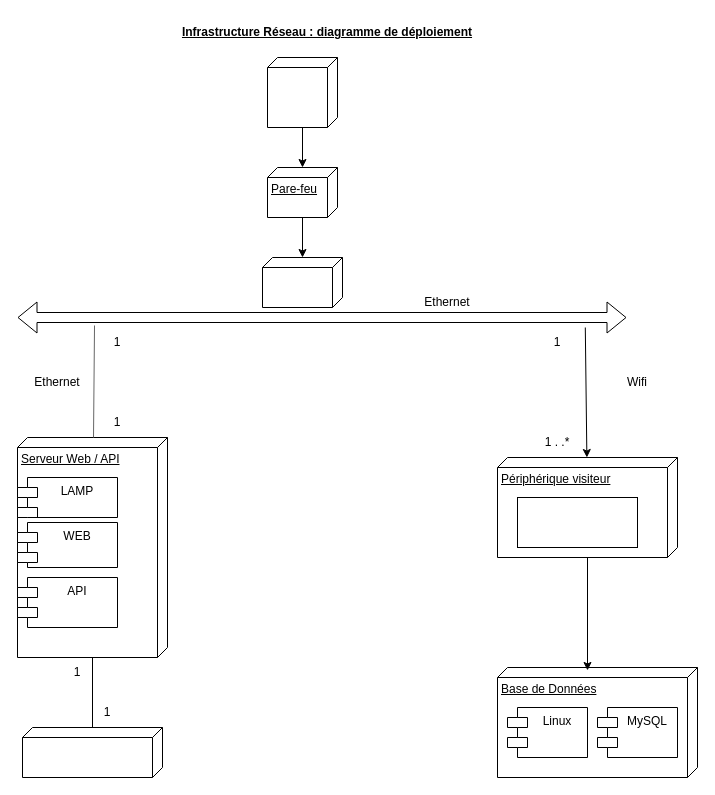
Some shapes in this 715 by 795 pixel diagram are drawn without their labels. Here are the shapes that lost their labels. From the top down, the centre of each, then its label:
At point (302, 92): "Internet".
At point (302, 282): "Routeur".
At point (577, 522): "Tablette / Smartphone (mode kiosque)".
At point (92, 752): "Gestion / Supervision".
